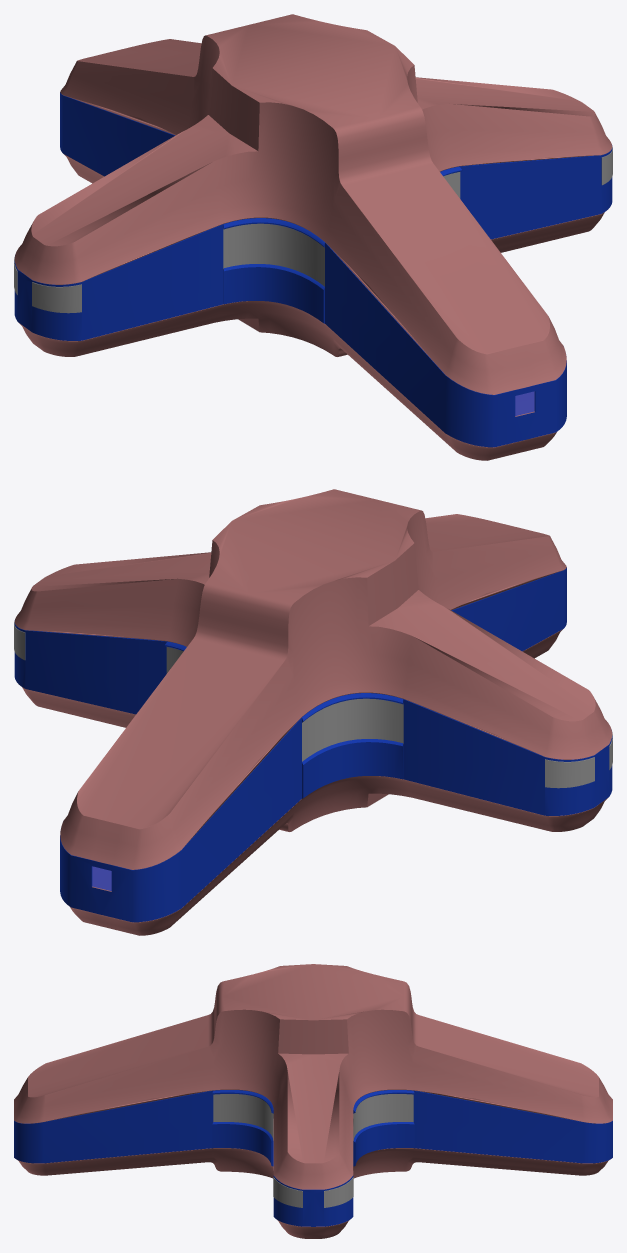
The model's file is SS Module 12.FBX.
3 renders of one model, top to bottom at view 1: azimuth 30°, elevation 25°; view 2: azimuth 150°, elevation 25°; view 3: azimuth 270°, elevation 25°, orthographic. The views are drawn at different scales.
Parts seen in each view (by area): view 1: Plane085; view 2: Plane085; view 3: Plane085.
Part boxes in pixels (x1,y1,x2,y2): Plane085: [14, 14, 612, 460]; Plane085: [14, 489, 612, 935]; Plane085: [14, 964, 612, 1238].
Bounding box in the file's own units: 115 × 45.96 × 146.
